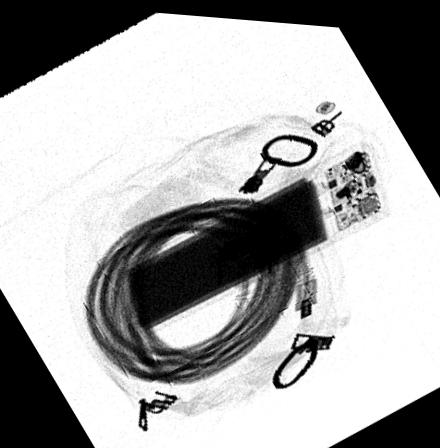Powerbank: (111, 136, 390, 339)
